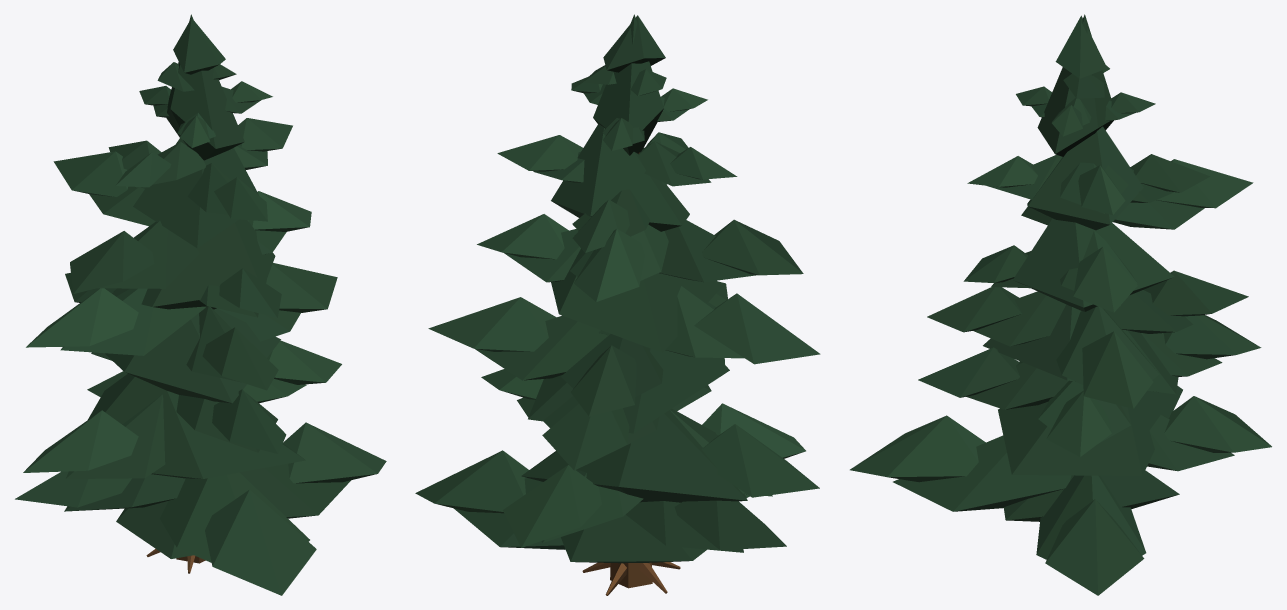
The model's file is pine-04-far.glb.
3 views of the same model, side by side, from view 1: azimuth 30°, elevation 25°; view 2: azimuth 150°, elevation 25°; view 3: azimuth 270°, elevation 25° (orthographic). The views are drawn at different scales.
Visible parts, largest first — view 1: pine-04-far; view 2: pine-04-far; view 3: pine-04-far.
Boxes of the visible parts, box(x1,y1,x2,y2) form: pine-04-far: box(15, 14, 386, 595); pine-04-far: box(415, 14, 820, 595); pine-04-far: box(850, 14, 1271, 595).
Bounding box in the file's own units: 5.81 × 8 × 5.86.
